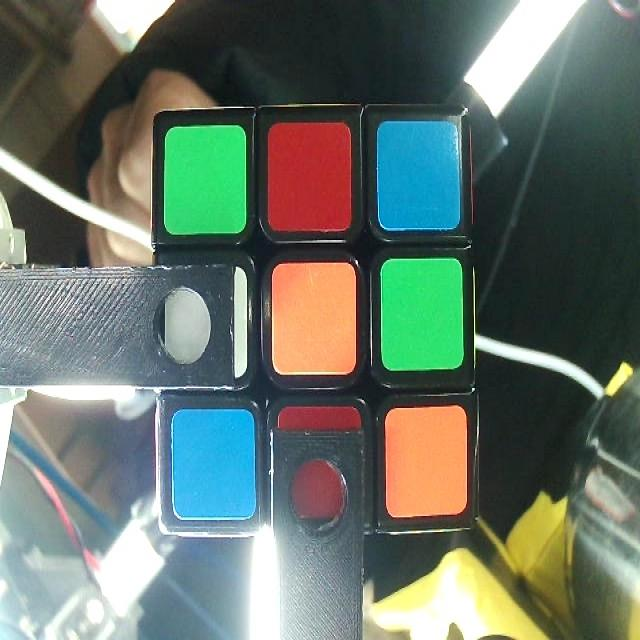b: (375, 120, 458, 228), (175, 410, 255, 517)
g: (168, 128, 248, 238), (383, 262, 463, 371)
o: (382, 408, 469, 515), (272, 262, 357, 371)
r: (279, 406, 362, 521), (270, 121, 350, 234)
w: (163, 269, 251, 380)
